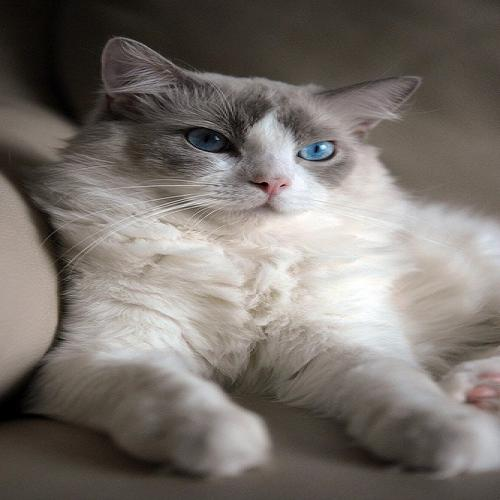ragdoll: (84, 23, 441, 246)
